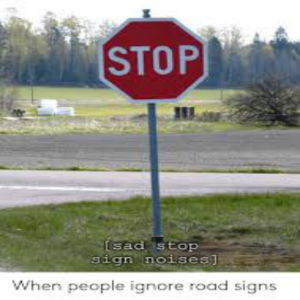STOP_SIGN: (98, 18, 208, 102)
